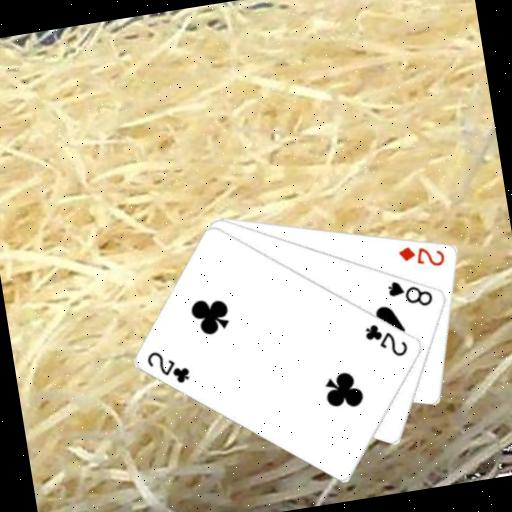2C: (360, 315, 411, 363), (142, 343, 193, 390)
2D: (394, 237, 448, 273)
8S: (383, 272, 436, 313)
